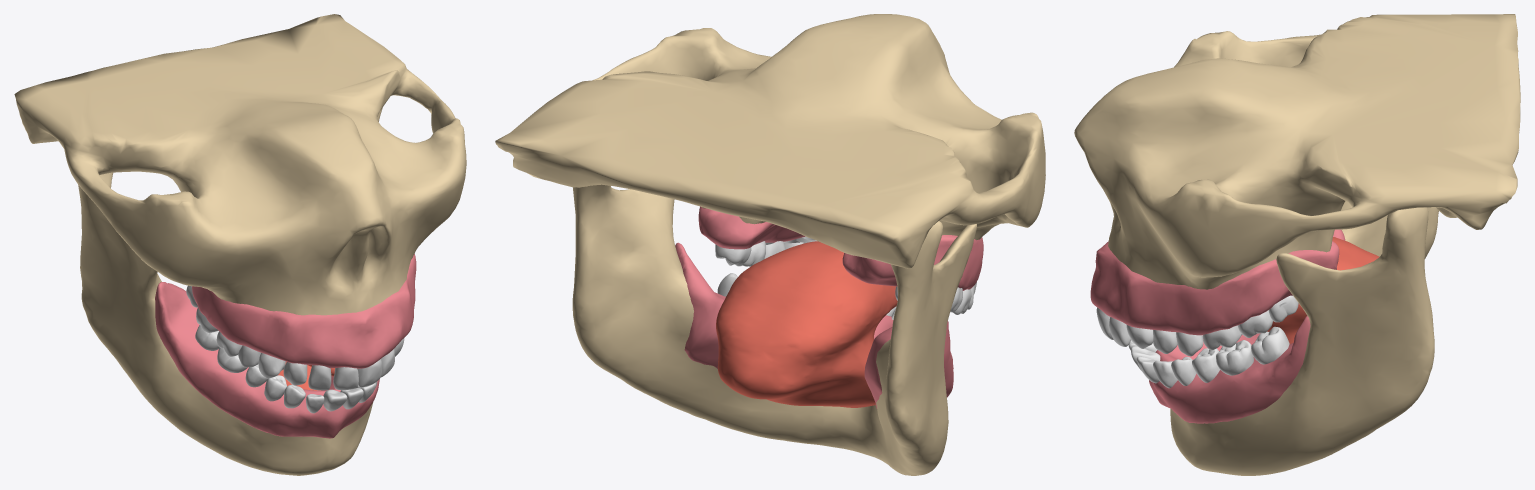
Rendered from prototipo_fantoma_lowpoly.glb.
3 renders of one model, left to right at view 1: azimuth 30°, elevation 25°; view 2: azimuth 150°, elevation 25°; view 3: azimuth 270°, elevation 25°, orthographic. The views are drawn at different scales.
Visible parts, largest first — view 1: craneo_parcial, mandibula, reborde_alveolar_superior, reborde_alveolar_inferior, 8, 7, 5, 6; view 2: craneo_parcial, mandibula, lengua.001, reborde_alveolar_superior, reborde_alveolar_inferior; view 3: craneo_parcial, mandibula, reborde_alveolar_superior, reborde_alveolar_inferior, lengua.001, 19, 18, 20, 14, 15, 21, 16 (+2 smaller).
Boxes of the visible parts, x1=… form: craneo_parcial: x1=14, y1=14, x2=466, y2=315; mandibula: x1=78, y1=107, x2=382, y2=475; reborde_alveolar_superior: x1=192, y1=254, x2=416, y2=368; reborde_alveolar_inferior: x1=155, y1=282, x2=379, y2=438; 8: x1=333, y1=367, x2=358, y2=390; 7: x1=308, y1=365, x2=331, y2=390; 5: x1=258, y1=353, x2=285, y2=378; 6: x1=283, y1=362, x2=307, y2=385; craneo_parcial: x1=495, y1=14, x2=1045, y2=268; mandibula: x1=572, y1=184, x2=976, y2=475; lengua.001: x1=716, y1=241, x2=897, y2=407; reborde_alveolar_superior: x1=698, y1=206, x2=983, y2=290; reborde_alveolar_inferior: x1=675, y1=242, x2=953, y2=408; craneo_parcial: x1=1074, y1=14, x2=1520, y2=289; mandibula: x1=1170, y1=201, x2=1438, y2=475; reborde_alveolar_superior: x1=1090, y1=241, x2=1339, y2=335; reborde_alveolar_inferior: x1=1149, y1=229, x2=1345, y2=423; lengua.001: x1=1251, y1=237, x2=1379, y2=345; 19: x1=1216, y1=340, x2=1253, y2=375; 18: x1=1251, y1=326, x2=1289, y2=364; 20: x1=1192, y1=348, x2=1220, y2=382; 14: x1=1203, y1=325, x2=1242, y2=350; 15: x1=1237, y1=310, x2=1272, y2=337; 21: x1=1171, y1=356, x2=1196, y2=385; 16: x1=1268, y1=295, x2=1298, y2=322.
Bounding box in the file's own units: 1.2 × 1.13 × 1.18.
